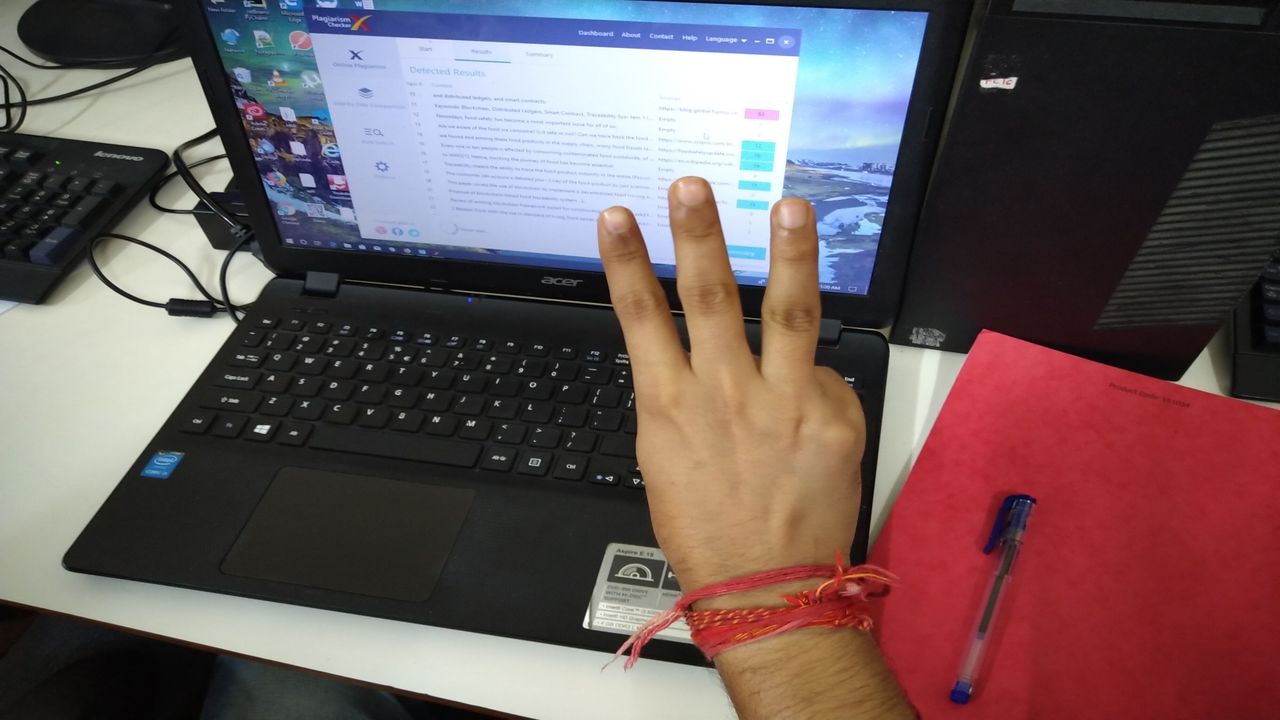fingertip: (662, 170, 726, 222), (766, 186, 822, 240), (590, 198, 644, 250)
